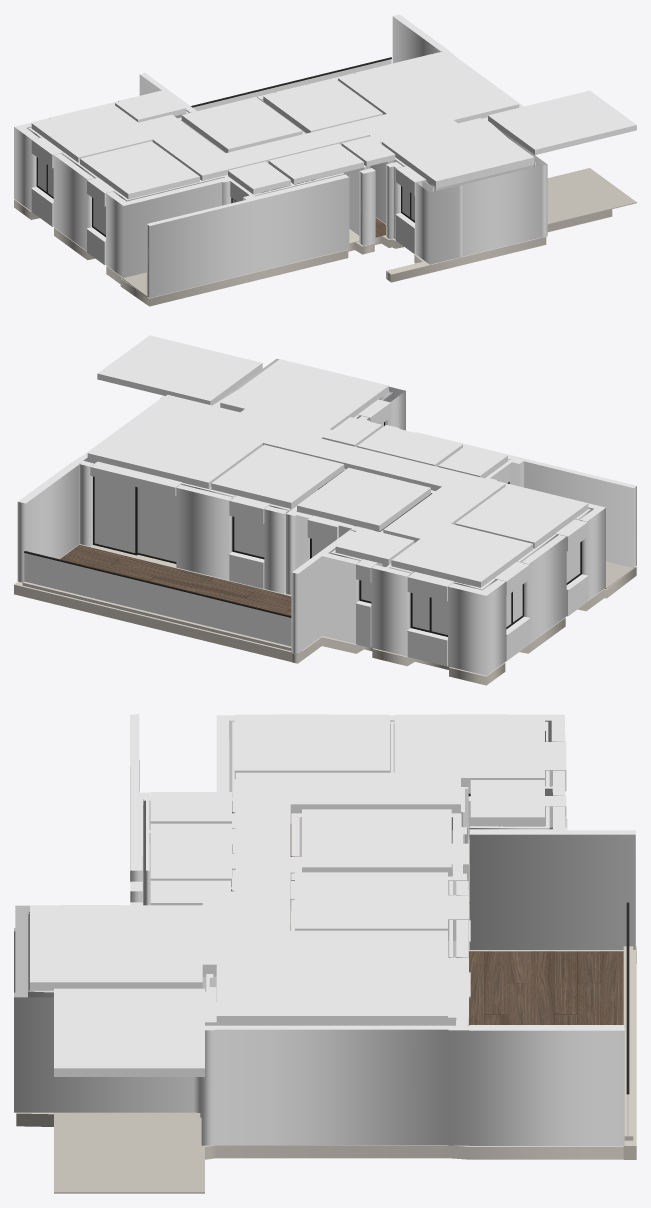
Rendered from shell.gltf.
3 views of the same model, one above another, from view 1: azimuth 30°, elevation 25°; view 2: azimuth 150°, elevation 25°; view 3: azimuth 270°, elevation 25° (orthographic). The views are drawn at different scales.
Parts seen in each view (by area): view 1: Wall 07.001, Wall 04.002, Ceiling kitchen.004, Wall 08.001, Ceiling landing.002, Slab.002, Ceiling living.004, Ceiling master.001, Ceiling bed4.001, Ceiling mamad.001, Ceiling corridor.002, Ceiling bed3.002 (+25 smaller); view 2: Balustrade.001, Ceiling living.004, Ceiling kitchen.004, Ceiling landing.002, Wall 25.002, Wall 26.001, Wall 07.001, Ceiling master.001, Ceiling mamad.001, Wall 24.001, Ceiling bed3.002, Ceiling corridor.002 (+37 smaller); view 3: Wall 25.002, Wall 26.001, Ceiling living.004, Ceiling kitchen.004, Ceiling landing.002, Floor landing.002, Wall 04.002, Floor terrace.001, Ceiling master.001, Ceiling mamad.001, Ceiling bed4.001, Ceiling bed3.002 (+19 smaller).
Part boxes in pixels (x1,y1,x2,y2): Wall 07.001: [146, 173, 349, 297]; Wall 04.002: [415, 117, 547, 264]; Ceiling kitchen.004: [382, 118, 534, 188]; Wall 08.001: [106, 175, 233, 277]; Ceiling landing.002: [488, 90, 636, 154]; Slab.002: [14, 199, 612, 306]; Ceiling living.004: [338, 51, 495, 114]; Ceiling master.001: [31, 103, 158, 162]; Ceiling bed4.001: [80, 141, 199, 199]; Ceiling mamad.001: [181, 97, 302, 152]; Ceiling corridor.002: [185, 114, 403, 180]; Ceiling bed3.002: [263, 78, 382, 133]; Balustrade.001: [24, 553, 291, 646]; Ceiling living.004: [87, 413, 262, 488]; Ceiling kitchen.004: [220, 359, 388, 429]; Ceiling landing.002: [97, 335, 262, 405]; Wall 25.002: [17, 395, 165, 582]; Wall 26.001: [291, 530, 359, 653]; Wall 07.001: [415, 432, 636, 567]; Ceiling master.001: [391, 522, 532, 587]; Ceiling mamad.001: [297, 467, 430, 531]; Wall 24.001: [448, 580, 506, 675]; Ceiling bed3.002: [211, 444, 344, 508]; Ceiling corridor.002: [263, 429, 505, 499]; Wall 25.002: [201, 1017, 624, 1145]; Wall 26.001: [469, 806, 635, 949]; Ceiling living.004: [290, 930, 447, 1025]; Ceiling kitchen.004: [30, 905, 202, 990]; Ceiling landing.002: [54, 988, 204, 1076]; Floor landing.002: [54, 1112, 204, 1193]; Wall 04.002: [14, 905, 216, 1117]; Floor terrace.001: [469, 951, 623, 1025]; Ceiling master.001: [394, 714, 544, 786]; Ceiling mamad.001: [302, 809, 451, 875]; Ceiling bed4.001: [234, 714, 389, 779]; Ceiling bed3.002: [295, 872, 447, 930].
Size of the model in its own units: 18.22 by 3.23 by 13.21.
Materials: 13 (5 with a texture image).
